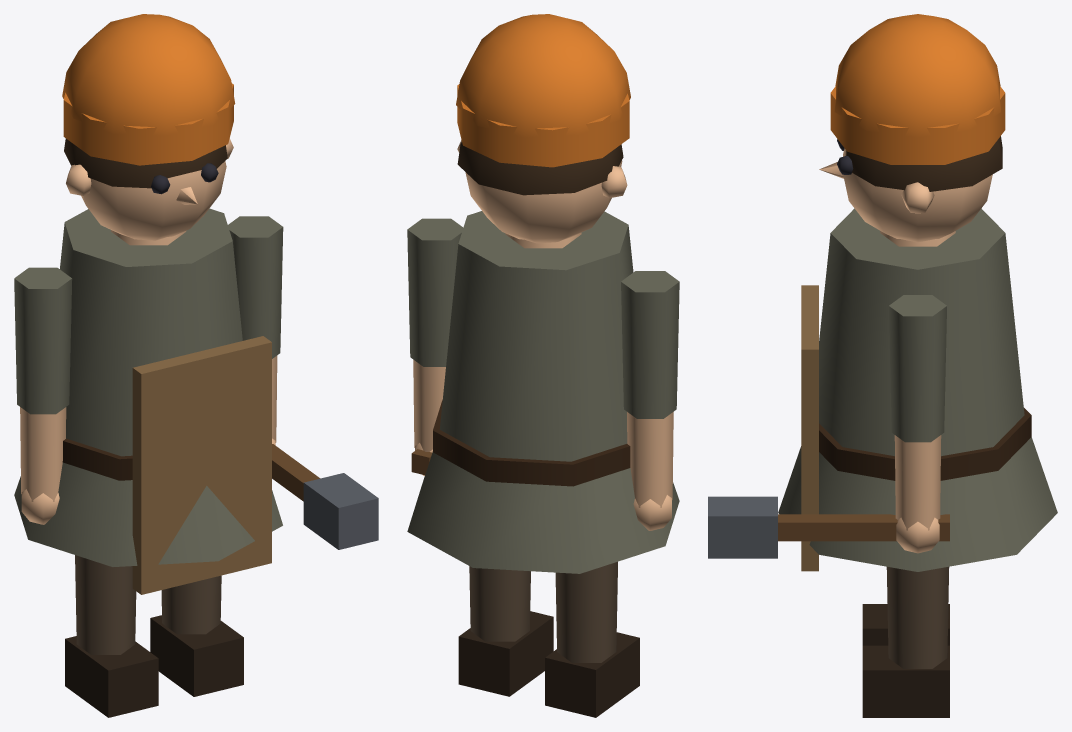
File: w_bauarbeiter.glb
3 views of the same model, side by side, from view 1: azimuth 30°, elevation 25°; view 2: azimuth 150°, elevation 25°; view 3: azimuth 270°, elevation 25° (orthographic).
Parts seen in each view (by area): view 1: worker, arm_l, arm_r, leg_l, leg_r; view 2: worker, arm_l, leg_l, leg_r, arm_r; view 3: worker, arm_r, leg_r, leg_l.
Boxes of the visible parts, x1,y1,x2,y2 form: worker: (14,14,282,594); arm_l: (14,267,72,524); arm_r: (228,216,378,549); leg_l: (65,555,158,717); leg_r: (150,575,243,696); worker: (407,14,679,573); arm_l: (621,271,679,530); leg_l: (545,561,639,717); leg_r: (458,566,553,696); arm_r: (407,218,463,475); worker: (778,14,1057,571); arm_r: (708,295,949,558); leg_r: (862,566,949,717); leg_l: (862,604,949,645).
Size of the model in its own units: 0.4053 by 1 by 0.48.
